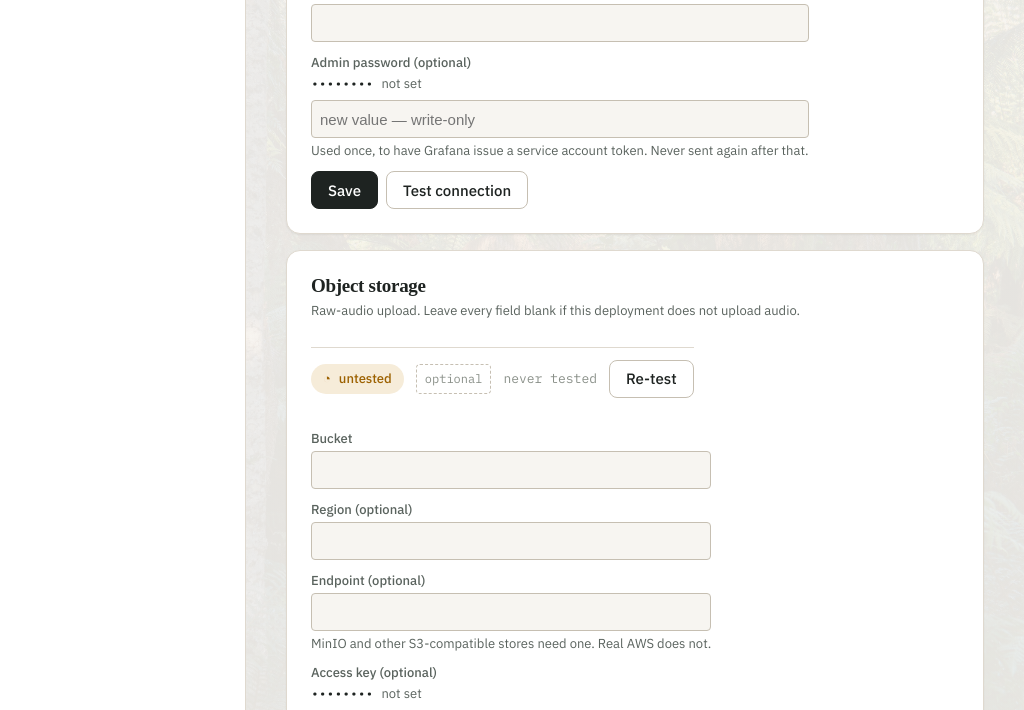
Scenario: the per-service result row › reads not_required and not_configured as answers, never as failures
(page scrolled)
Click the button "Re-test" at (651, 379), box [609, 360, 694, 398]
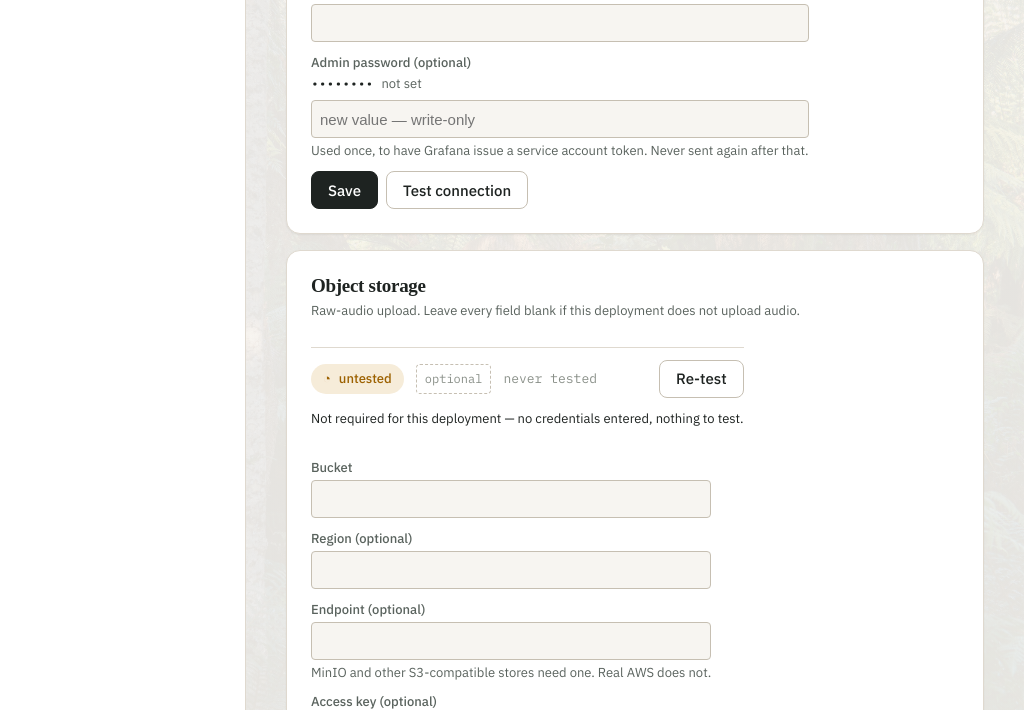
Expected: the text "untested" is shown, [339, 370, 392, 388]
Expected: the text "Not required for this deployment" is shown, [311, 410, 744, 427]
